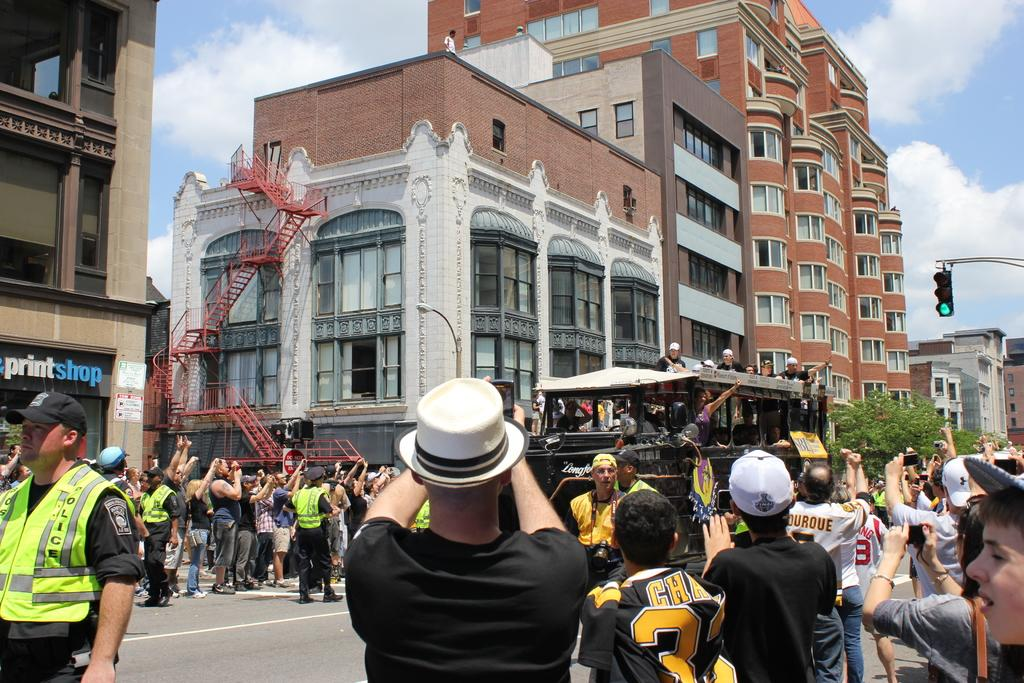Hat: (398, 374, 530, 487), (728, 448, 794, 518), (2, 390, 82, 430), (962, 454, 1024, 492), (98, 444, 132, 474), (590, 453, 614, 472), (614, 450, 638, 466), (144, 464, 160, 477), (720, 346, 736, 356), (666, 342, 682, 348), (785, 356, 797, 362), (762, 358, 770, 366)
